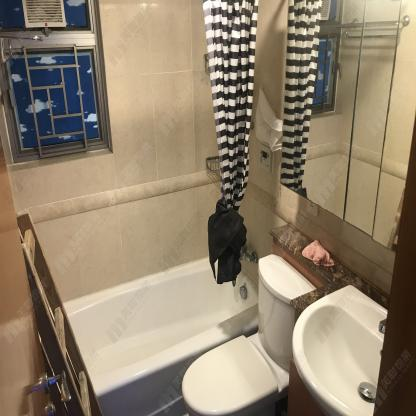Bathtub: (62, 247, 259, 416)
Exhaust Fan: (22, 0, 66, 26)
Toilet: (181, 253, 316, 416)
Toilet Sink: (293, 283, 388, 416)
